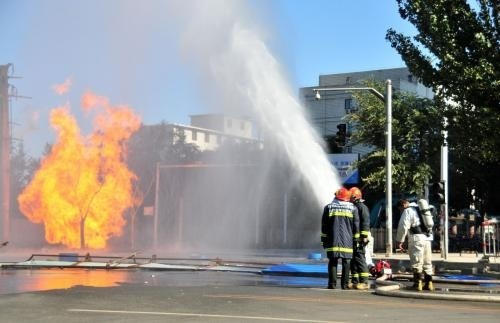fire: (18, 83, 144, 250)
